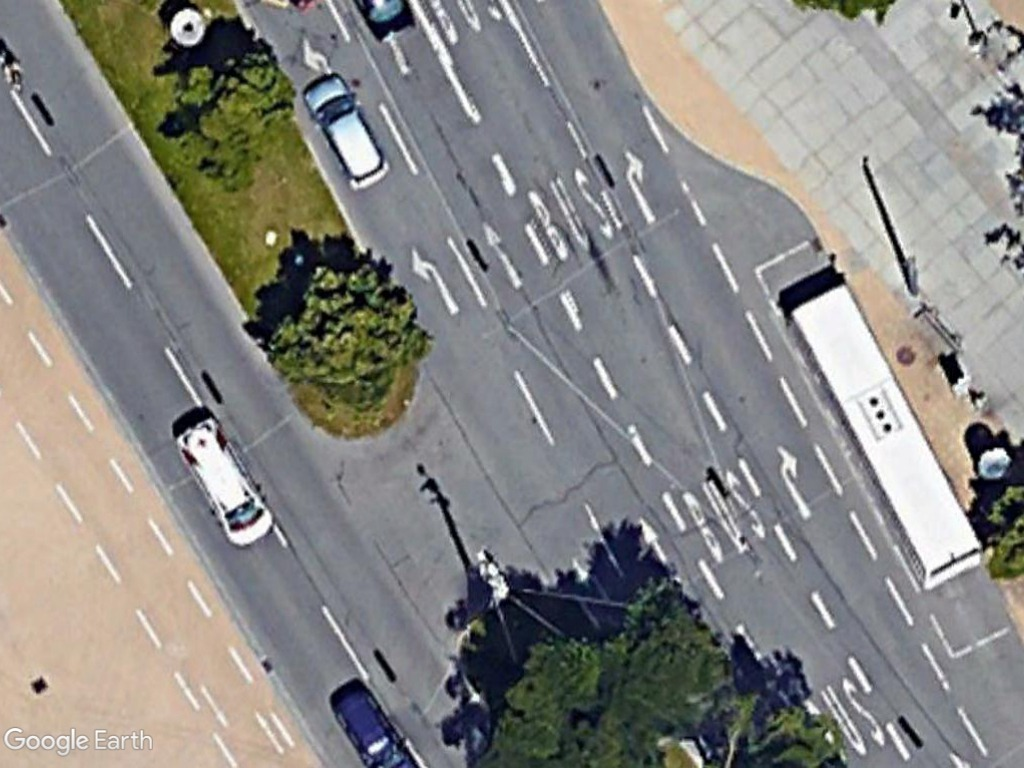bus: (781, 284, 990, 592)
car: (165, 416, 279, 551), (296, 73, 392, 194)
